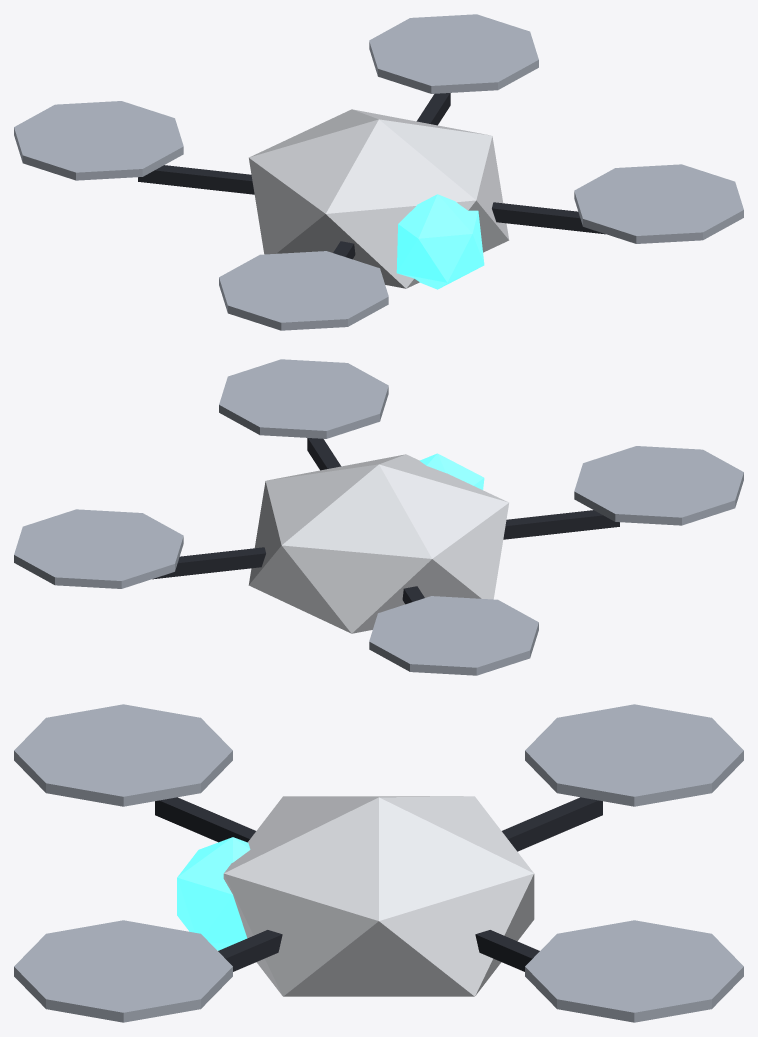
The model's file is lunar-hover-drone.glb.
3 views of the same model, one above another, from view 1: azimuth 30°, elevation 25°; view 2: azimuth 150°, elevation 25°; view 3: azimuth 270°, elevation 25° (orthographic). The views are drawn at different scales.
Visible parts, largest first — view 1: hover_drone; view 2: hover_drone; view 3: hover_drone.
Boxes of the visible parts, x1,y1,x2,y2 form: hover_drone: [14, 14, 743, 330]; hover_drone: [14, 359, 743, 675]; hover_drone: [14, 704, 743, 1022].
Size of the model in its own units: 2 by 0.6 by 2.
